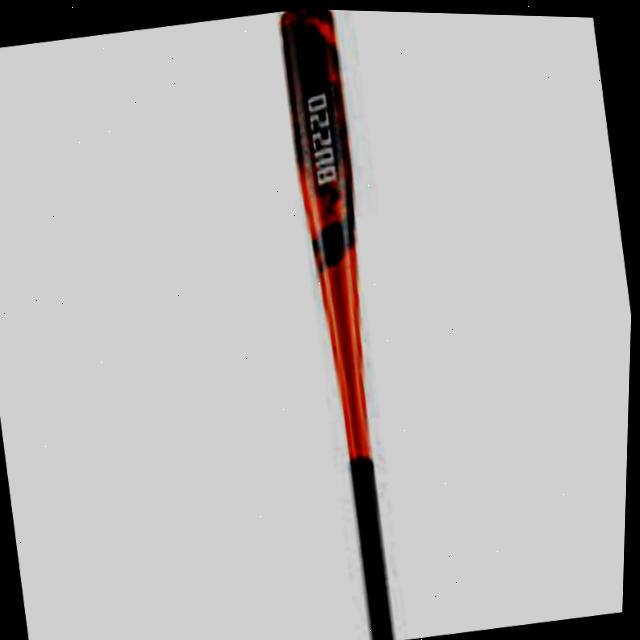baseball bat: (258, 6, 428, 640)
